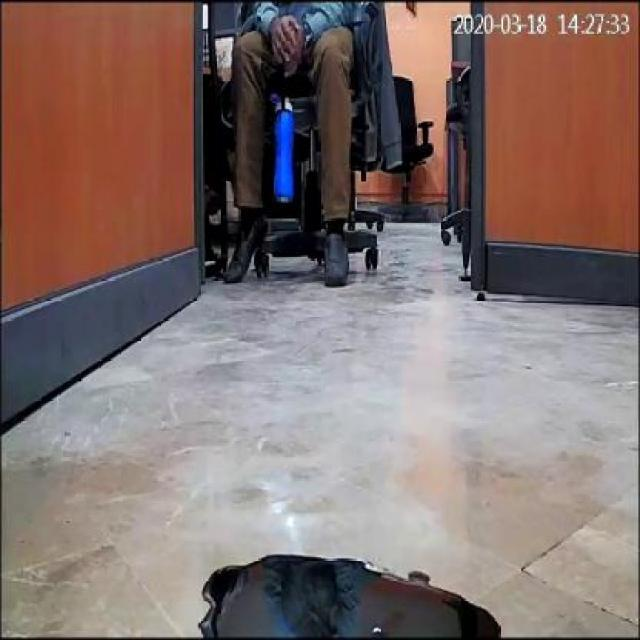spill: (189, 554, 500, 636)
